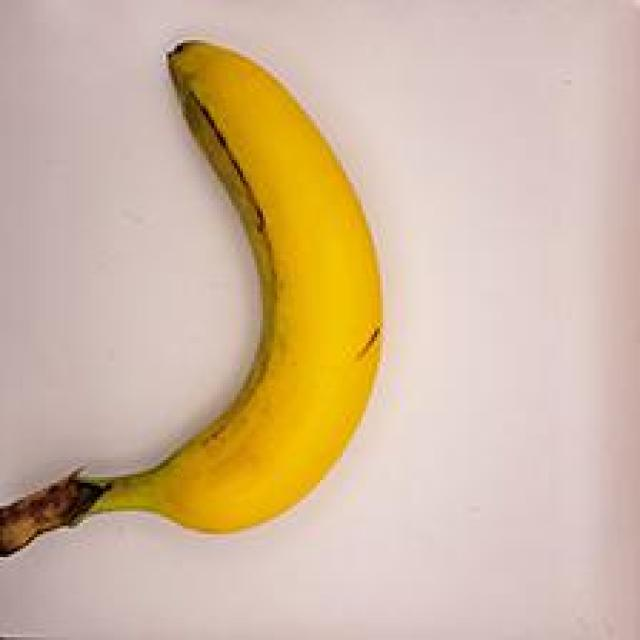Ripe: (0, 28, 411, 580)
